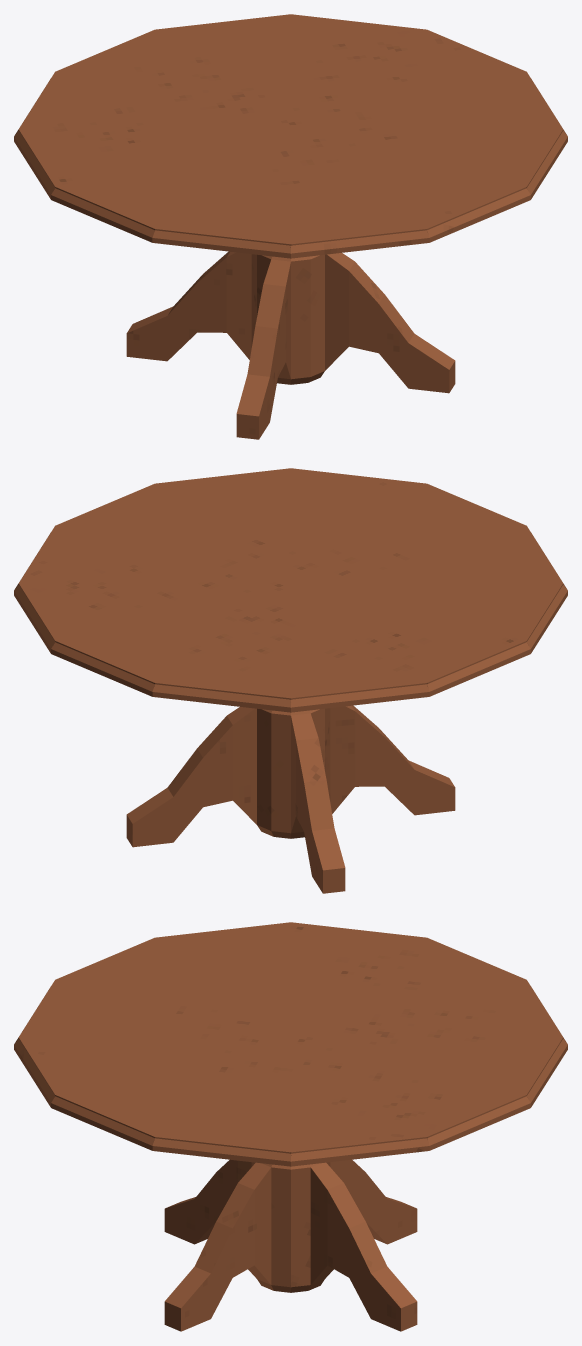
Rendered from Table.fbx.
3 renders of one model, top to bottom at view 1: azimuth 30°, elevation 25°; view 2: azimuth 150°, elevation 25°; view 3: azimuth 270°, elevation 25°, orthographic.
Visible parts, largest first — view 1: Table_Dining; view 2: Table_Dining; view 3: Table_Dining.
Part boxes in pixels (bbox=[...]): Table_Dining: bbox=[14, 14, 567, 439]; Table_Dining: bbox=[14, 468, 567, 893]; Table_Dining: bbox=[14, 922, 567, 1331].
Size of the model in its own units: 398 by 191 by 398.
Materials: 1 (1 with a texture image).
